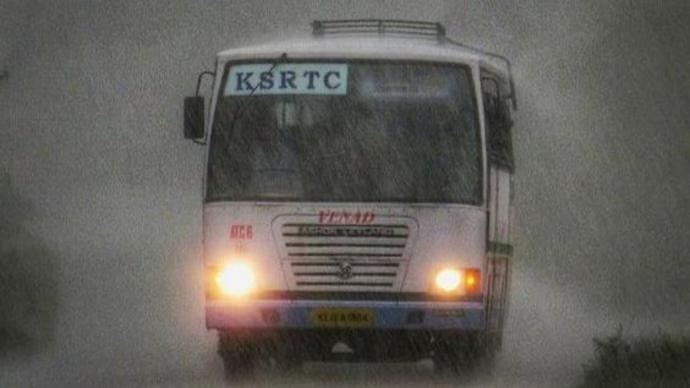Bus: (231, 68, 346, 94)
